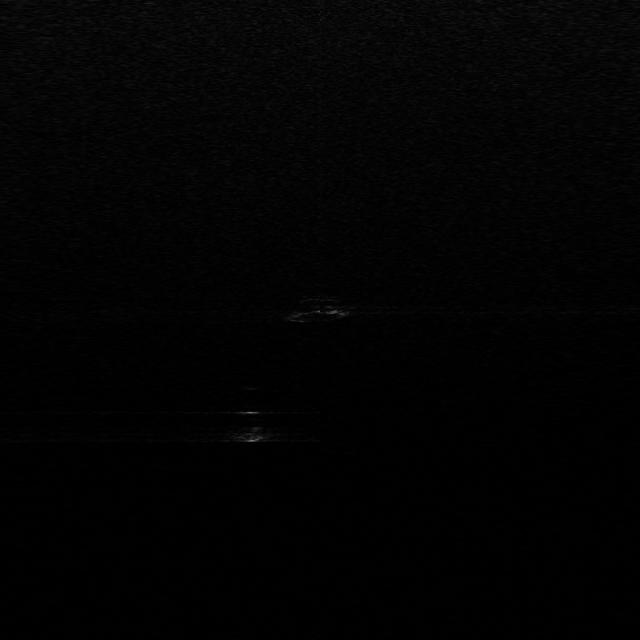ball: (223, 408, 278, 442)
tyre: (281, 296, 347, 325)
